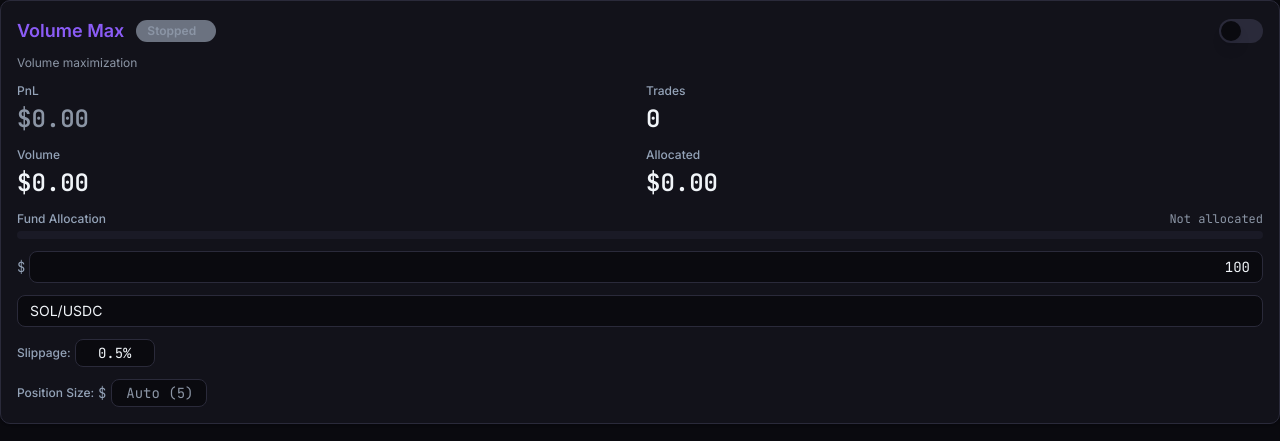
Scenario: ModeCard › toggle › optimistic badge update: changes to Starting on toggle on
Click the switch named "Toggle Volume Max mode" at coordinates (1241, 31), box [1219,19,1263,43]
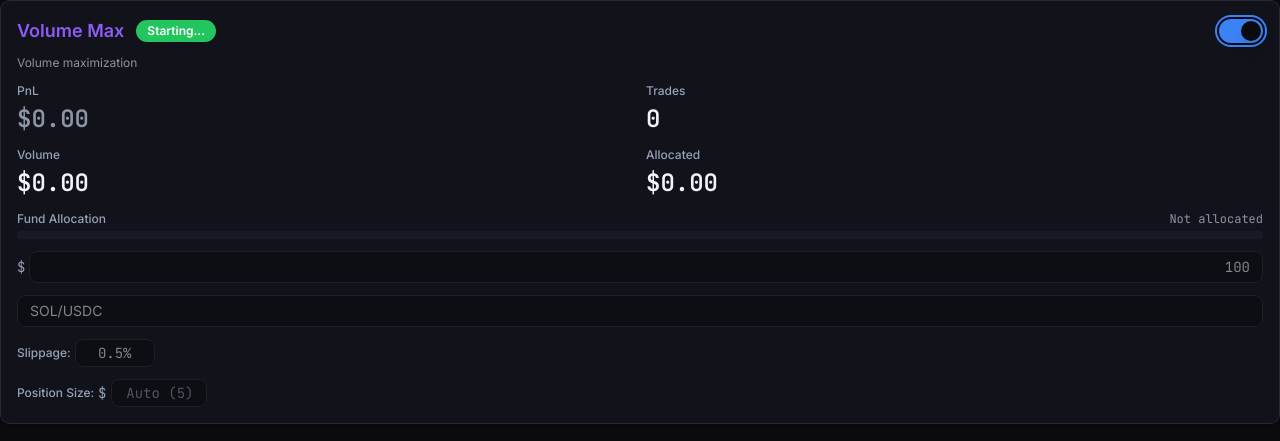
Now the text "Starting..." is shown, box [136,20,216,42]
